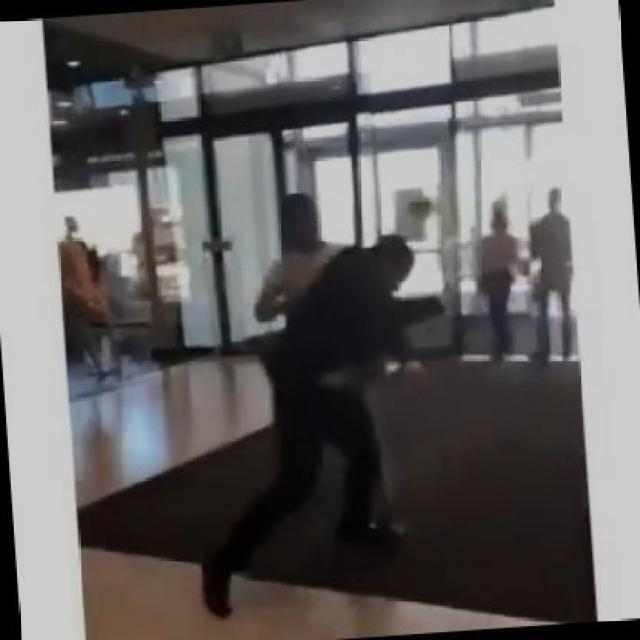fight: (196, 183, 454, 624)
